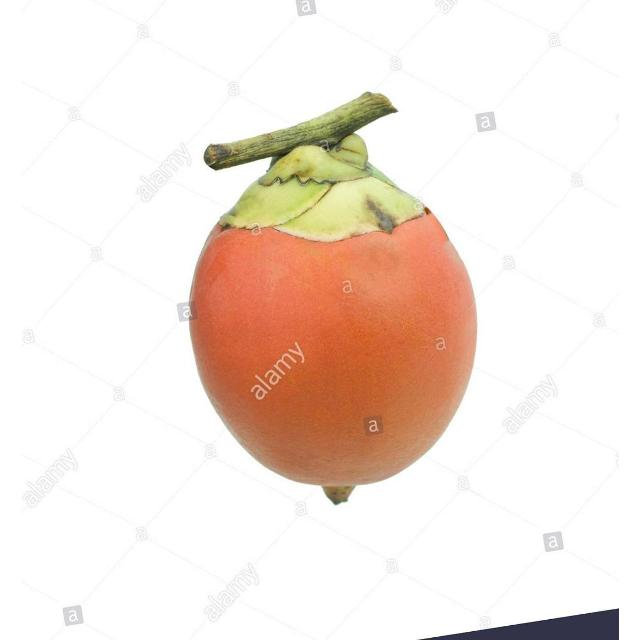good: (189, 136, 479, 506)
